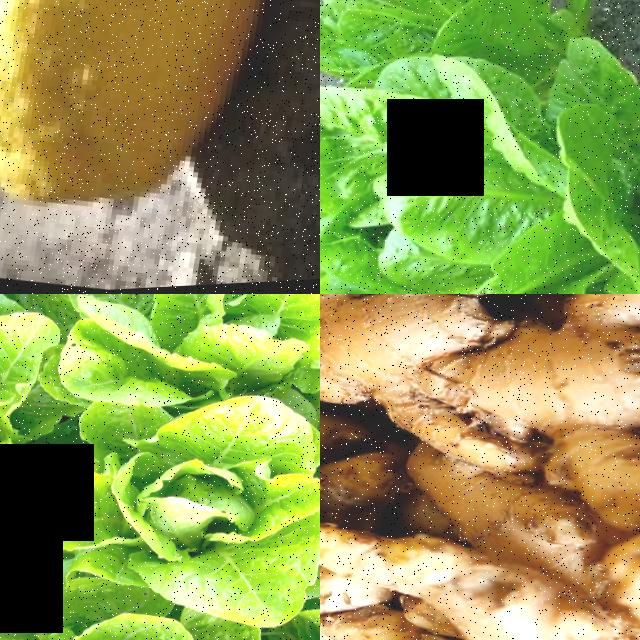ginger: (483, 294, 640, 542), (320, 522, 609, 640), (320, 294, 504, 444), (320, 388, 403, 640)
lemon: (0, 0, 314, 249)
lettuce: (320, 38, 640, 294), (7, 382, 320, 640), (320, 0, 571, 113), (0, 294, 62, 527)
